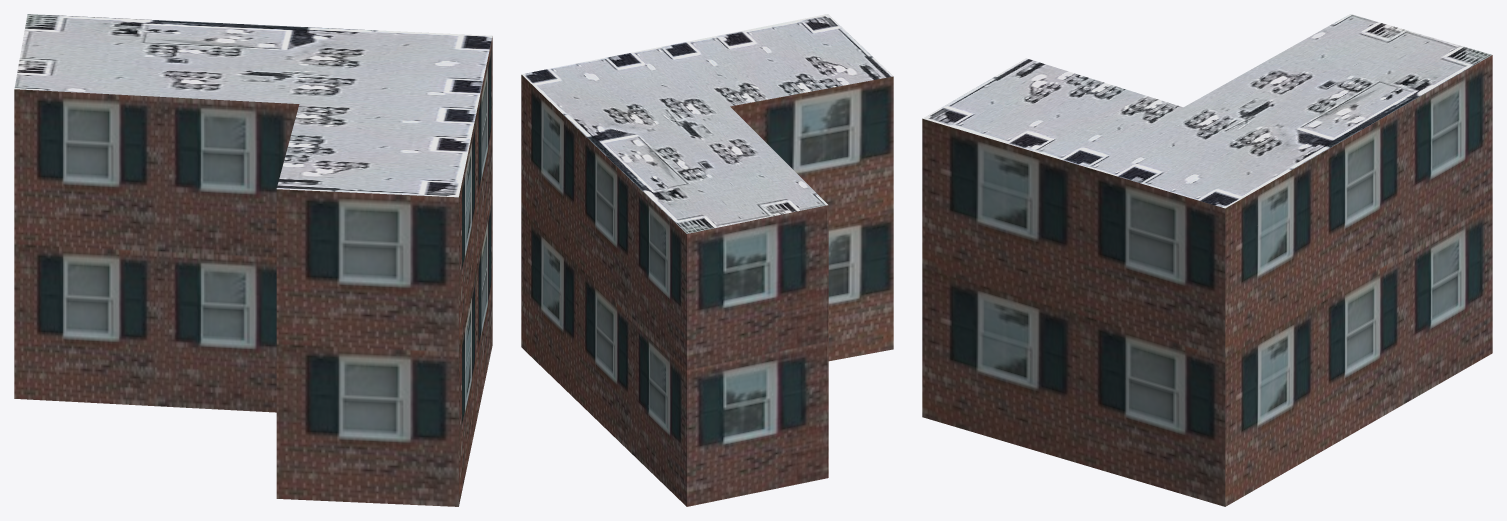
File: ResTex__3748.fbx
3 renders of one model, left to right at view 1: azimuth 30°, elevation 25°; view 2: azimuth 150°, elevation 25°; view 3: azimuth 270°, elevation 25°, orthographic. The views are drawn at different scales.
Visible parts, largest first — view 1: CityEngineMaterial_14_m, CityEngineMaterial_4_m; view 2: CityEngineMaterial_14_m, CityEngineMaterial_4_m; view 3: CityEngineMaterial_14_m, CityEngineMaterial_4_m.
Part boxes in pixels (x1=…): CityEngineMaterial_14_m: x1=14, y1=36, x2=492, y2=506; CityEngineMaterial_4_m: x1=14, y1=14, x2=492, y2=197; CityEngineMaterial_14_m: x1=521, y1=75, x2=893, y2=506; CityEngineMaterial_4_m: x1=521, y1=14, x2=893, y2=233; CityEngineMaterial_14_m: x1=922, y1=55, x2=1492, y2=506; CityEngineMaterial_4_m: x1=923, y1=14, x2=1491, y2=208.
Bounding box in the file's own units: 8.38 × 6 × 10.39.
2 materials, 2 textured.
